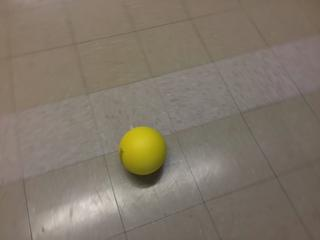power_cell: (119, 126, 167, 177)
